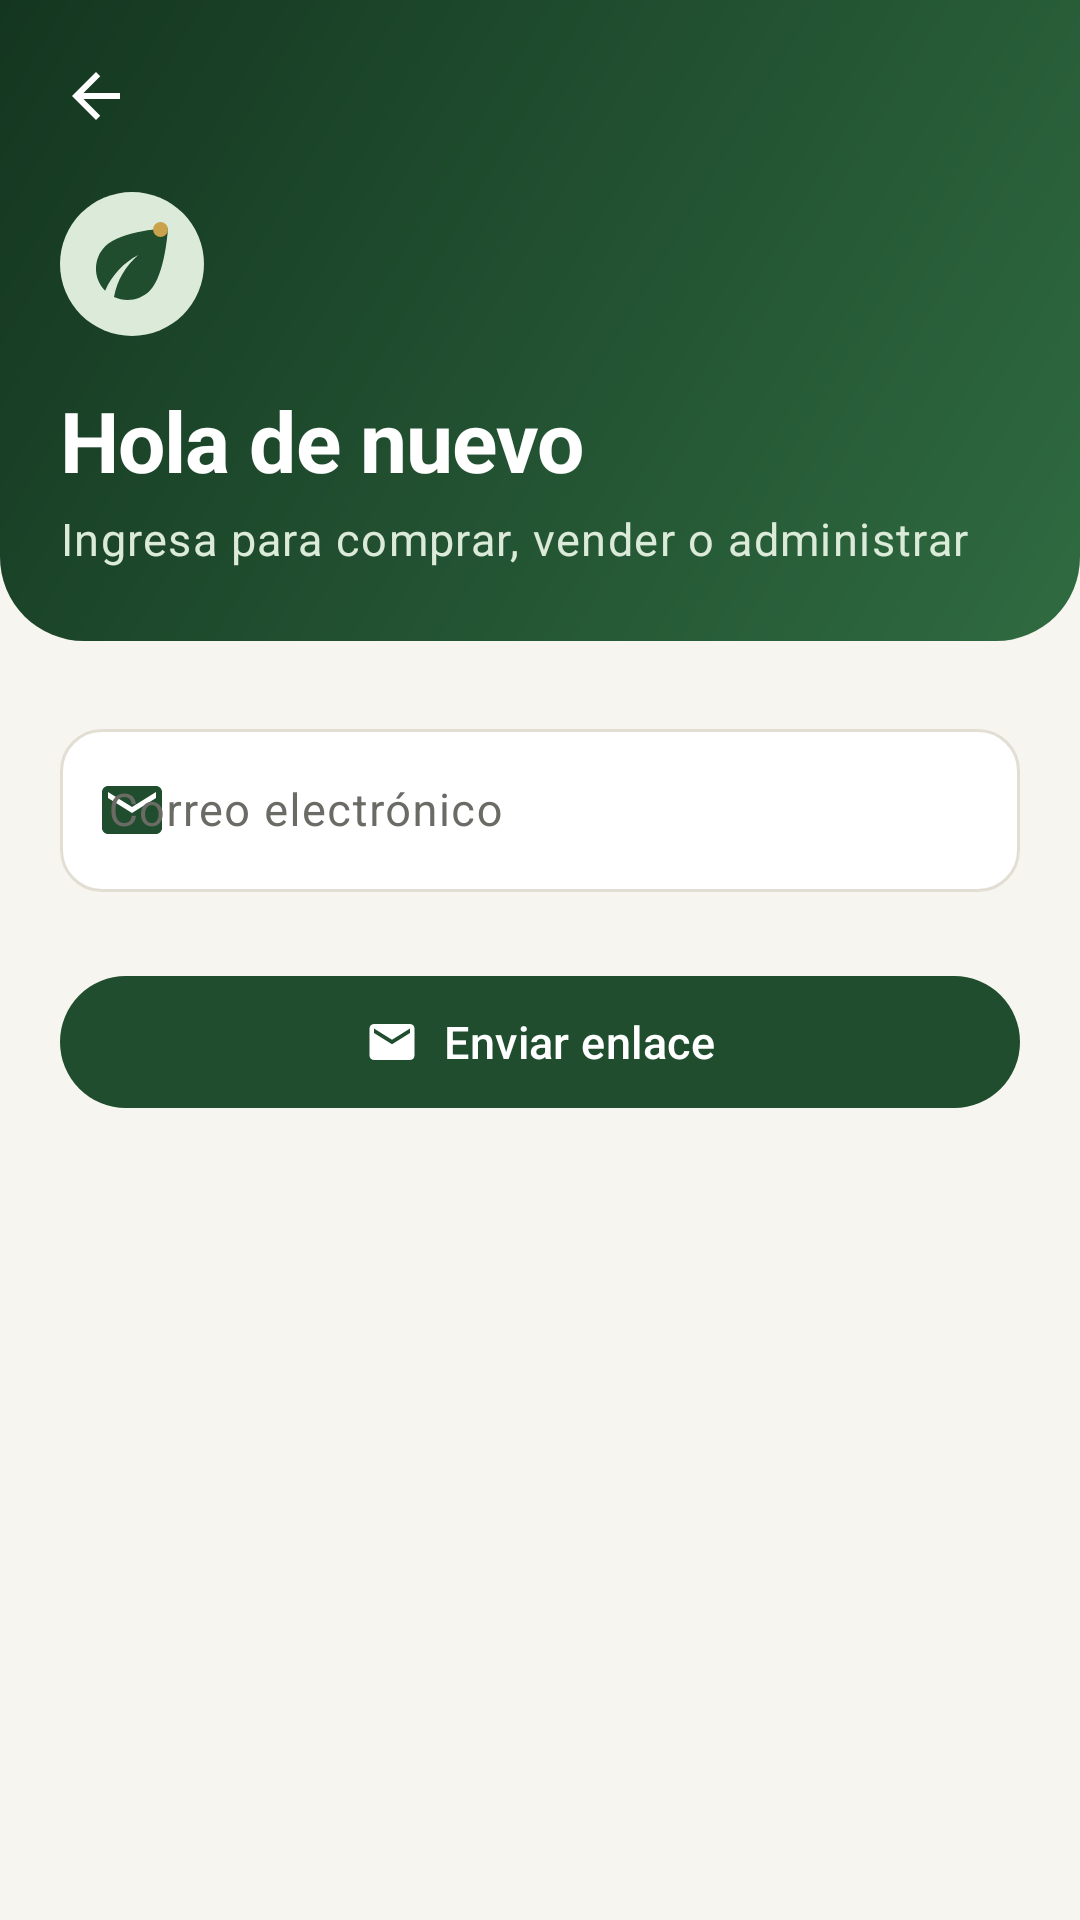

Named icons in this screenshot (1080*1920) and their bounding boxes, (x1, y1, x2, y2):
Volver: (72, 72, 120, 120)
